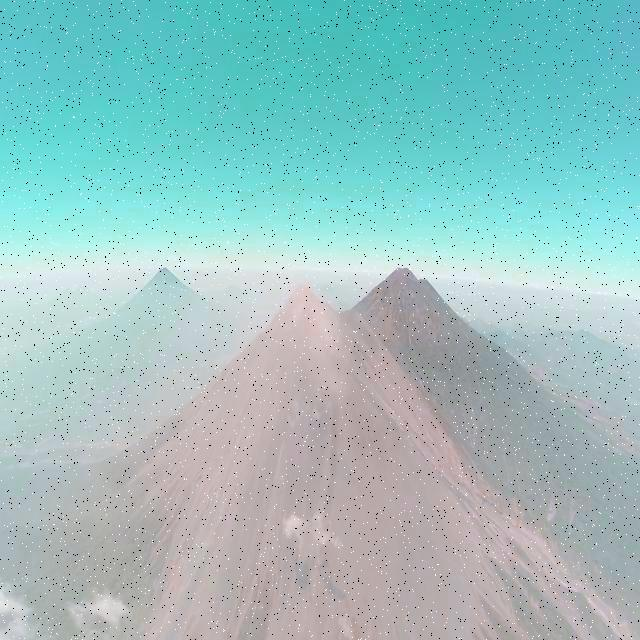Summit: (266, 284, 334, 334)
